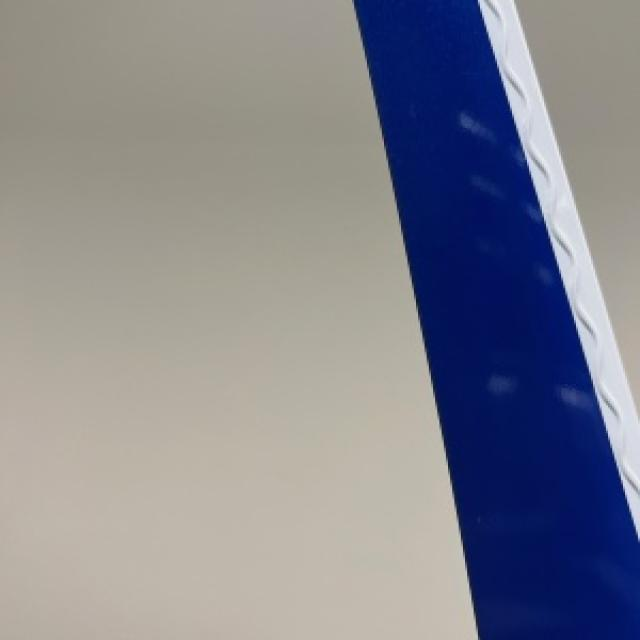healthy: (352, 0, 638, 638)
